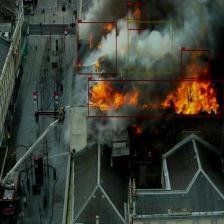fire: (88, 80, 224, 117), (78, 22, 116, 74), (181, 50, 209, 78), (128, 4, 146, 30), (132, 126, 142, 134)
smoke: (127, 21, 172, 73)
